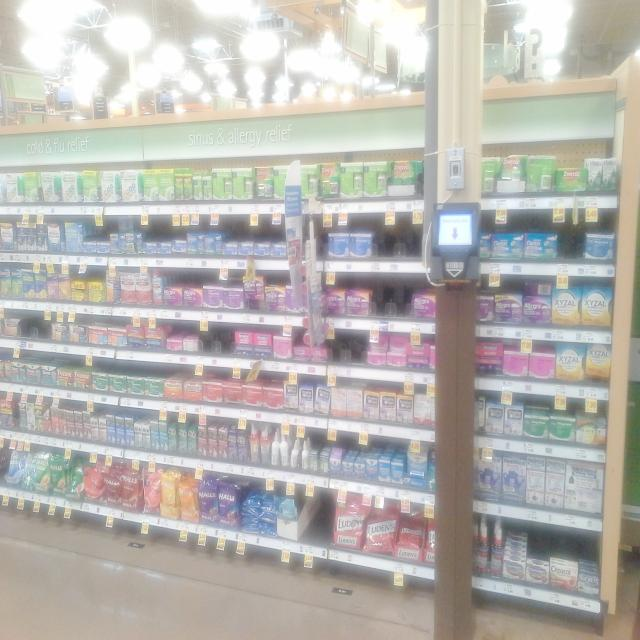empty_space: (376, 226, 420, 258), (377, 282, 411, 312), (310, 499, 332, 539), (562, 229, 584, 259), (339, 334, 364, 358), (26, 319, 50, 336), (211, 329, 231, 349)
